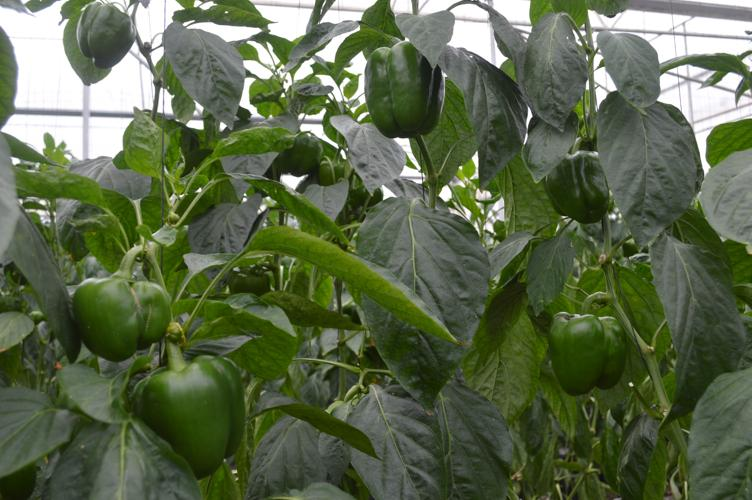BellPepper: (126, 352, 258, 469), (62, 263, 167, 355), (363, 42, 447, 148), (539, 306, 623, 407), (533, 145, 617, 234), (73, 2, 137, 71), (269, 130, 328, 184)
